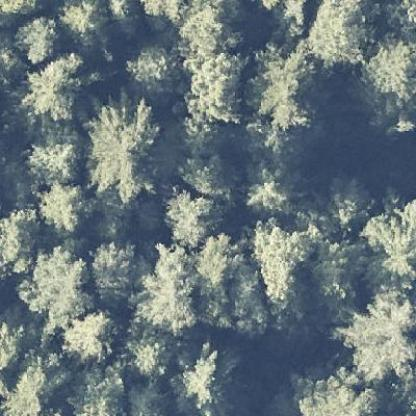tree-top: (79, 101, 167, 202), (237, 40, 328, 132), (244, 211, 316, 314), (337, 288, 415, 376), (17, 242, 94, 326), (132, 244, 200, 338), (176, 47, 251, 131), (174, 339, 252, 415), (22, 43, 97, 121), (281, 366, 391, 415), (357, 206, 415, 298), (86, 236, 150, 308), (123, 36, 193, 100), (302, 0, 371, 64), (159, 183, 224, 248), (22, 123, 86, 187), (5, 356, 69, 415), (0, 199, 46, 280), (32, 175, 93, 236), (363, 32, 415, 102), (66, 356, 127, 415), (8, 7, 60, 67), (236, 170, 302, 216), (127, 329, 178, 384)
